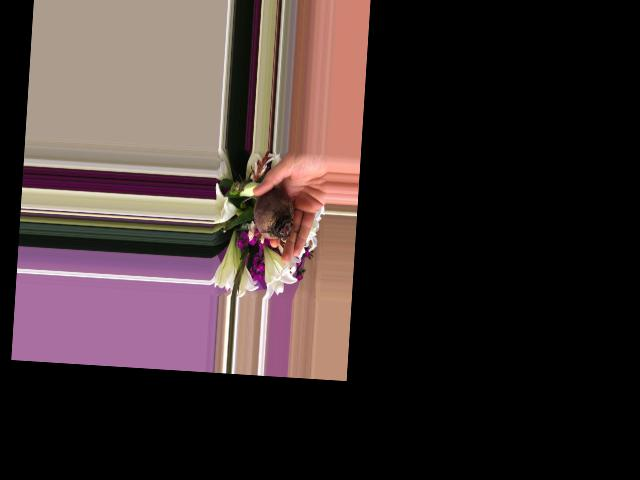beet: (239, 185, 295, 240)
